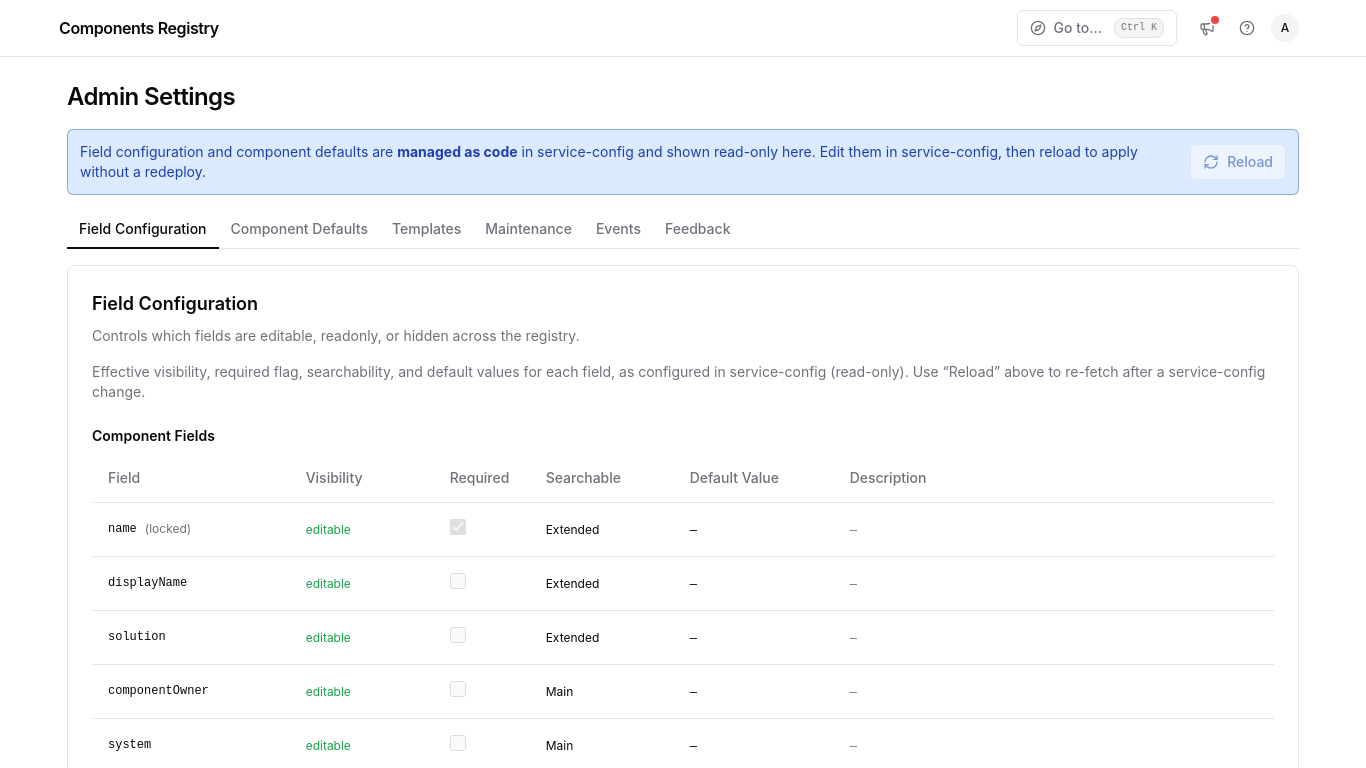
Test: AdminSettingsPage tabs › arming via the AdminModeArmBar enables ALL three destructive Run buttons
The width and height of the screenshot is (1366, 768).
Click the tab "Maintenance": [529, 230] box [473,211,584,249]
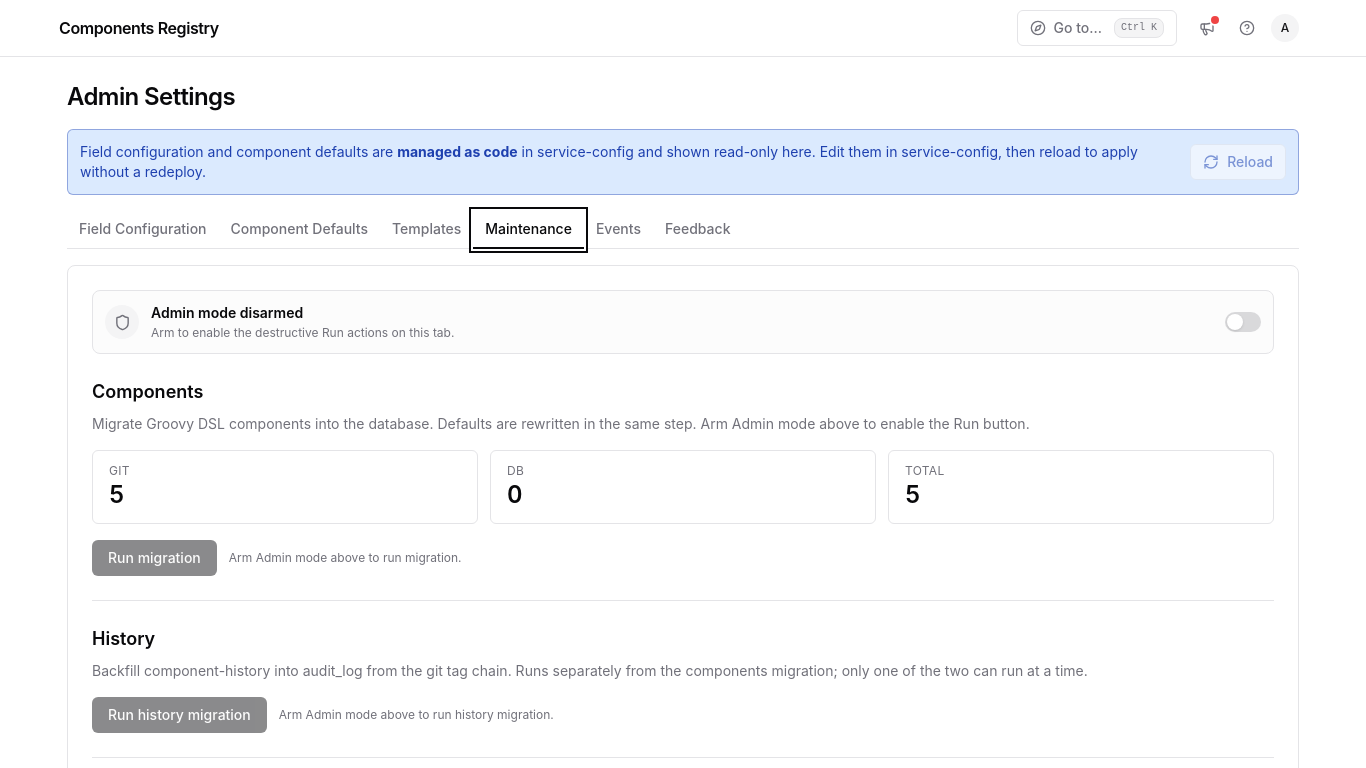
Expected: the button "Run migration" is disabled, [92,540,217,576]
Expected: the button "Run history migration" is disabled, [92,697,267,733]
Click the switch named "Arm admin mode": [1243, 322] box [1225,312,1261,332]
(page scrolled)
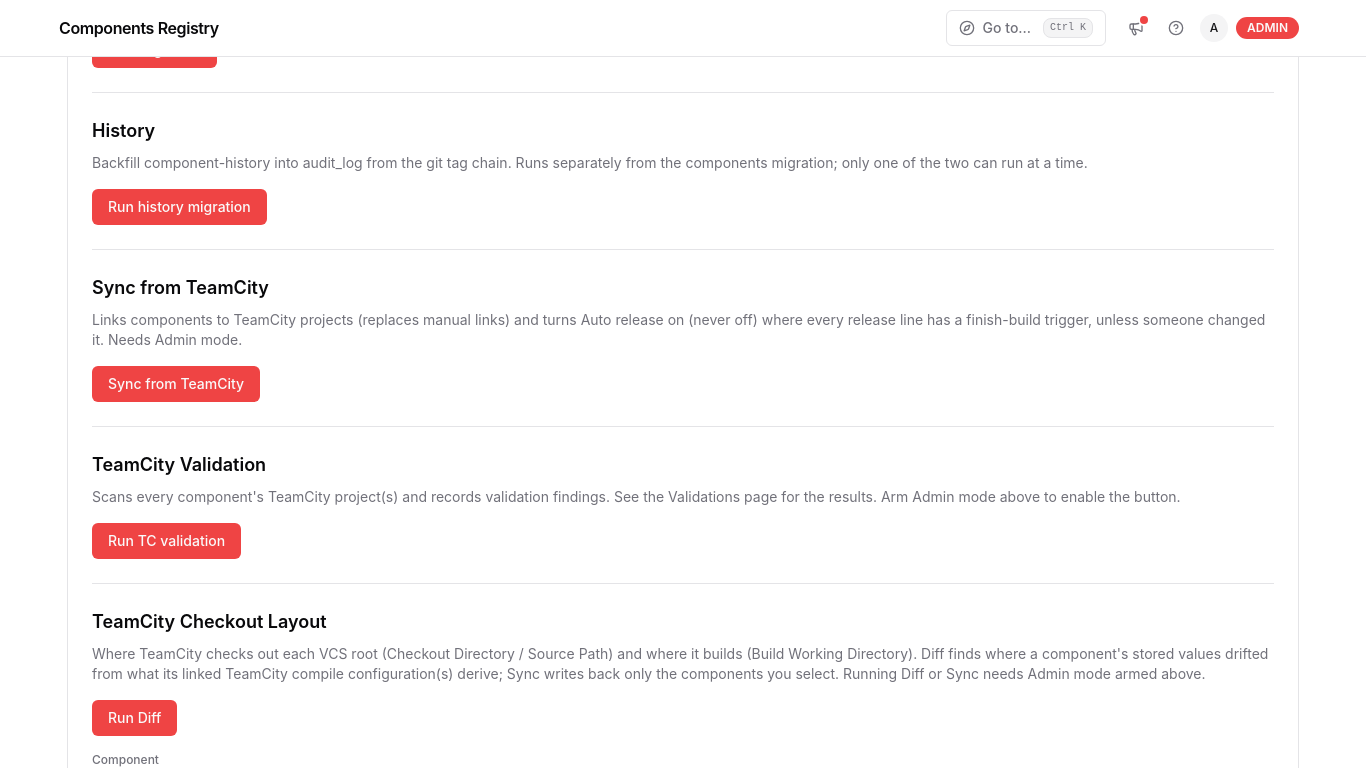
Expected: the button "Run migration" is enabled, [92,32,217,68]
Expected: the button "Run history migration" is enabled, [92,189,267,225]
Expected: the button "Sync from TeamCity" is enabled, [92,366,260,402]
